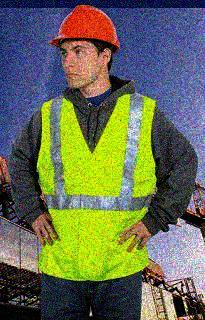helmet: (47, 4, 122, 92)
